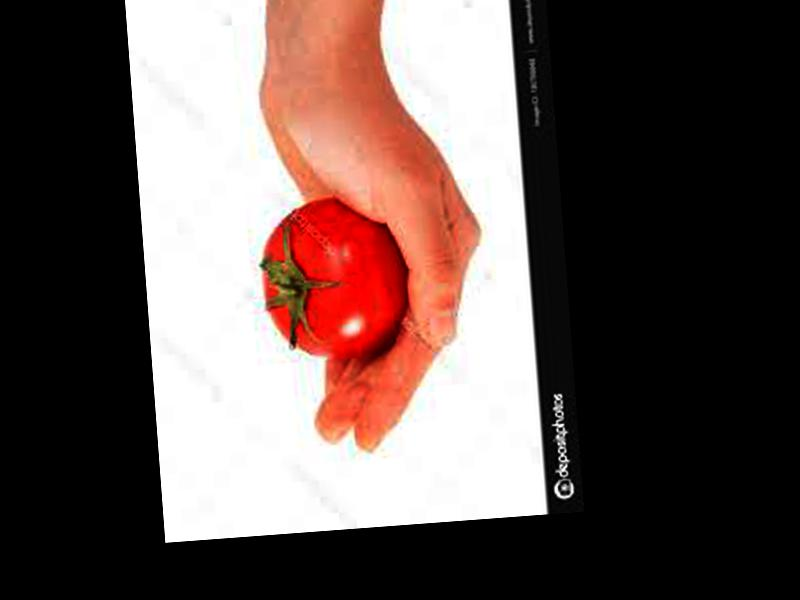Tomato: (258, 192, 410, 359)
